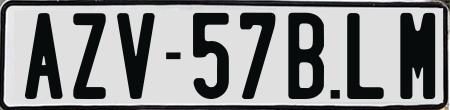5: (193, 13, 233, 101)
7: (239, 11, 280, 103)
A: (23, 12, 67, 100)
B: (285, 13, 321, 101)
L: (344, 10, 381, 102)
M: (400, 10, 435, 101)
V: (117, 11, 155, 101)
Z: (70, 11, 103, 98)
